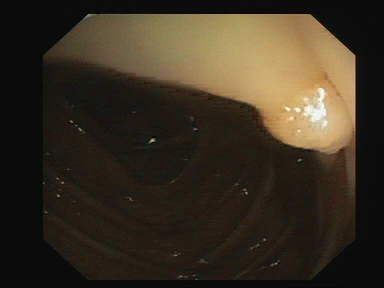polyp: (250, 63, 354, 161)
